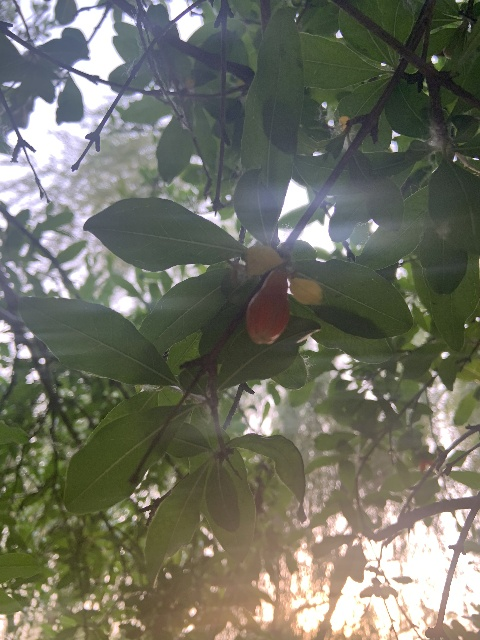bud: (245, 268, 290, 346)
